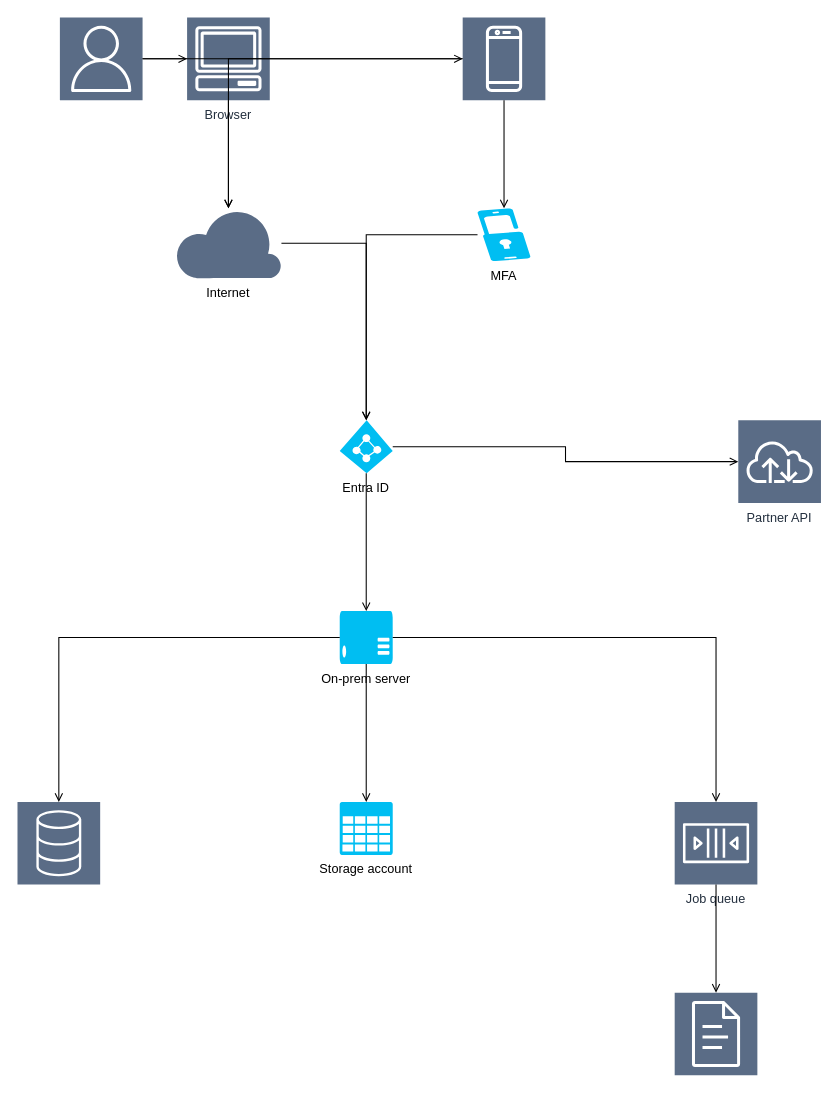
The diagram is 838 pixels wide and 1114 high, and some of its shapes have lost their labels. Here are the shapes that lost their labels. From the top down, the centre of each, then its label:
At pixel 101 58: "End user".
At pixel 503 58: "Mobile app".
At pixel 58 843: "Database".
At pixel 715 1033: "Report".
